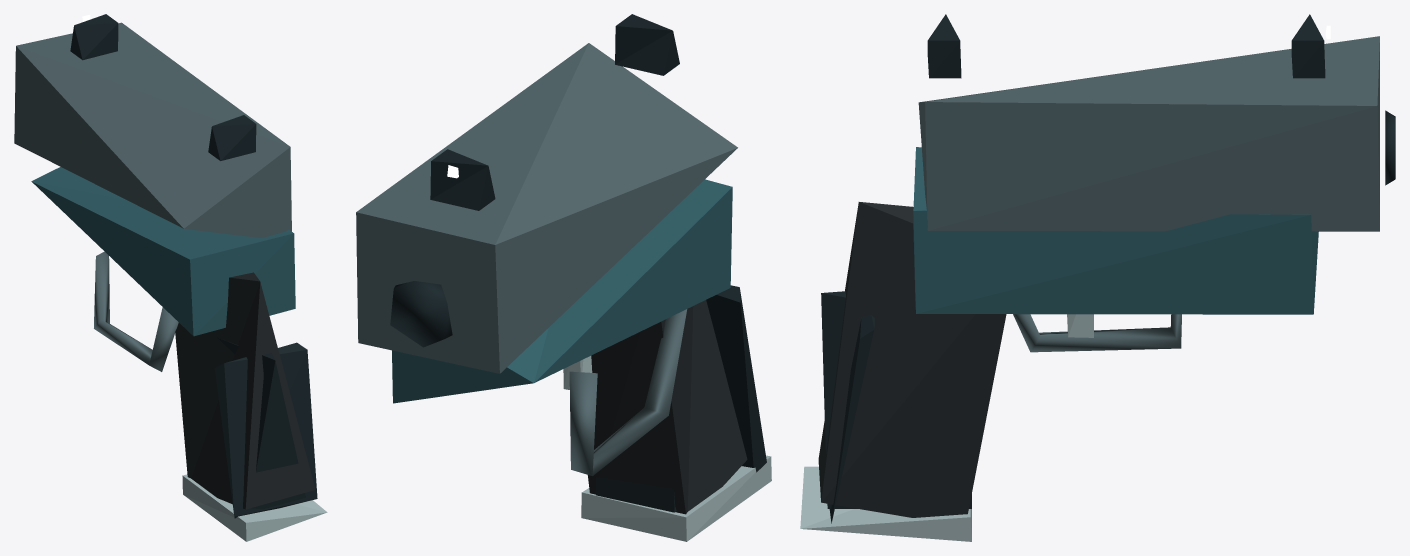
Rendered from sidearm-pistol.low.glb.
3 views of the same model, side by side, from view 1: azimuth 30°, elevation 25°; view 2: azimuth 150°, elevation 25°; view 3: azimuth 270°, elevation 25° (orthographic). The views are drawn at different scales.
Parts seen in each view (by area): view 1: geometry:slide:7, geometry:body:3, geometry:body:0, geometry:body:4, geometry:magazine:5, geometry:slide:8, geometry:magazine:6, geometry:body:1; view 2: geometry:slide:7, geometry:body:3, geometry:body:0, geometry:slide:8, geometry:body:1, geometry:magazine:6, geometry:body:4, geometry:magazine:5; view 3: geometry:slide:7, geometry:body:0, geometry:body:3, geometry:magazine:6, geometry:slide:8, geometry:body:1, geometry:magazine:5, geometry:body:4.
Part boxes in pixels (x1,y1,x2,y2): geometry:slide:7: (14,22,291,238); geometry:body:3: (31,167,295,336); geometry:body:0: (175,272,315,509); geometry:body:4: (214,342,317,518); geometry:magazine:5: (217,337,305,509); geometry:slide:8: (70,14,256,160); geometry:magazine:6: (182,474,327,541); geometry:body:1: (94,251,178,371); geometry:slide:7: (356,43,737,373); geometry:body:3: (392,179,732,403); geometry:body:0: (587,300,747,514); geometry:slide:8: (390,14,679,347); geometry:body:1: (569,309,687,475); geometry:magazine:6: (581,455,771,541); geometry:body:4: (706,285,766,472); geometry:magazine:5: (596,477,676,512); geometry:slide:7: (918,36,1379,231); geometry:body:0: (818,202,1006,517); geometry:body:3: (913,147,1318,314); geometry:magazine:6: (800,466,971,541); geometry:slide:8: (927,14,1395,185); geometry:body:1: (1013,314,1181,352); geometry:magazine:5: (821,291,971,508); geometry:body:4: (829,315,874,523).
Size of the model in its own units: 0.131 by 0.416 by 0.458.
